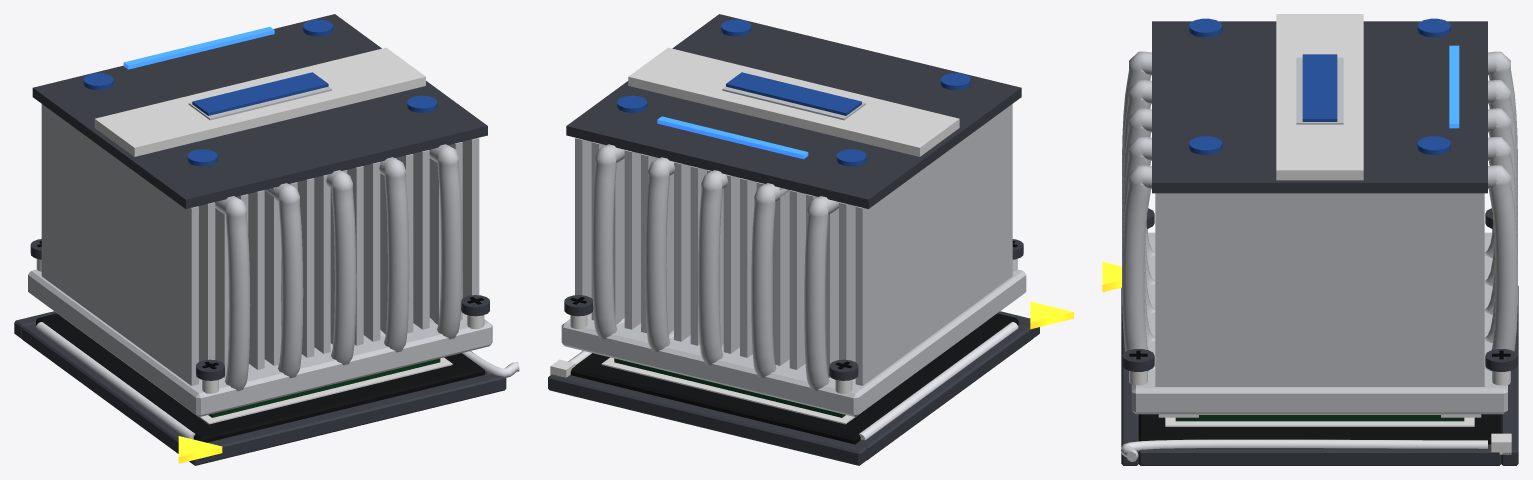
Rendered from hwm_cpu_xeon_64c.glb.
The picture shows the model from 3 angles, left to right: view 1: azimuth 30°, elevation 25°; view 2: azimuth 150°, elevation 25°; view 3: azimuth 270°, elevation 25°; orthographic projection. The views are drawn at different scales.
Parts seen in each view (by area): view 1: Cooler, Socket, CPU, Screw_3, Screw_1, Lever; view 2: Cooler, Socket, CPU, Screw_0, Screw_2; view 3: Cooler, Socket, Lever, CPU, Screw_2, Screw_3, Frame.
Part boxes in pixels (x1,y1,x2,y2): Cooler: (28, 14, 492, 416); Socket: (14, 311, 506, 465); CPU: (208, 358, 440, 417); Screw_3: (461, 295, 489, 329); Screw_1: (196, 359, 224, 393); Lever: (462, 351, 519, 377); Cooler: (561, 14, 1026, 416); Socket: (548, 301, 1073, 465); CPU: (614, 358, 845, 417); Screw_0: (829, 359, 858, 393); Screw_2: (564, 295, 593, 329); Cooler: (1122, 14, 1517, 414); Socket: (1102, 261, 1518, 465); Lever: (1121, 439, 1487, 461); CPU: (1175, 415, 1464, 421); Screw_2: (1485, 349, 1517, 385); Screw_3: (1122, 349, 1154, 385); Frame: (1158, 414, 1481, 417).
Bounding box in the file's own units: 0.1338 × 0.098 × 0.1239.
